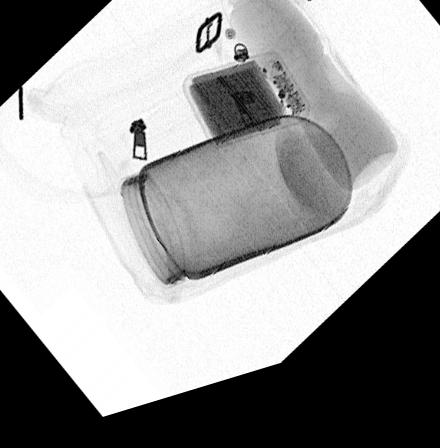Powerbank: (178, 64, 313, 161)
